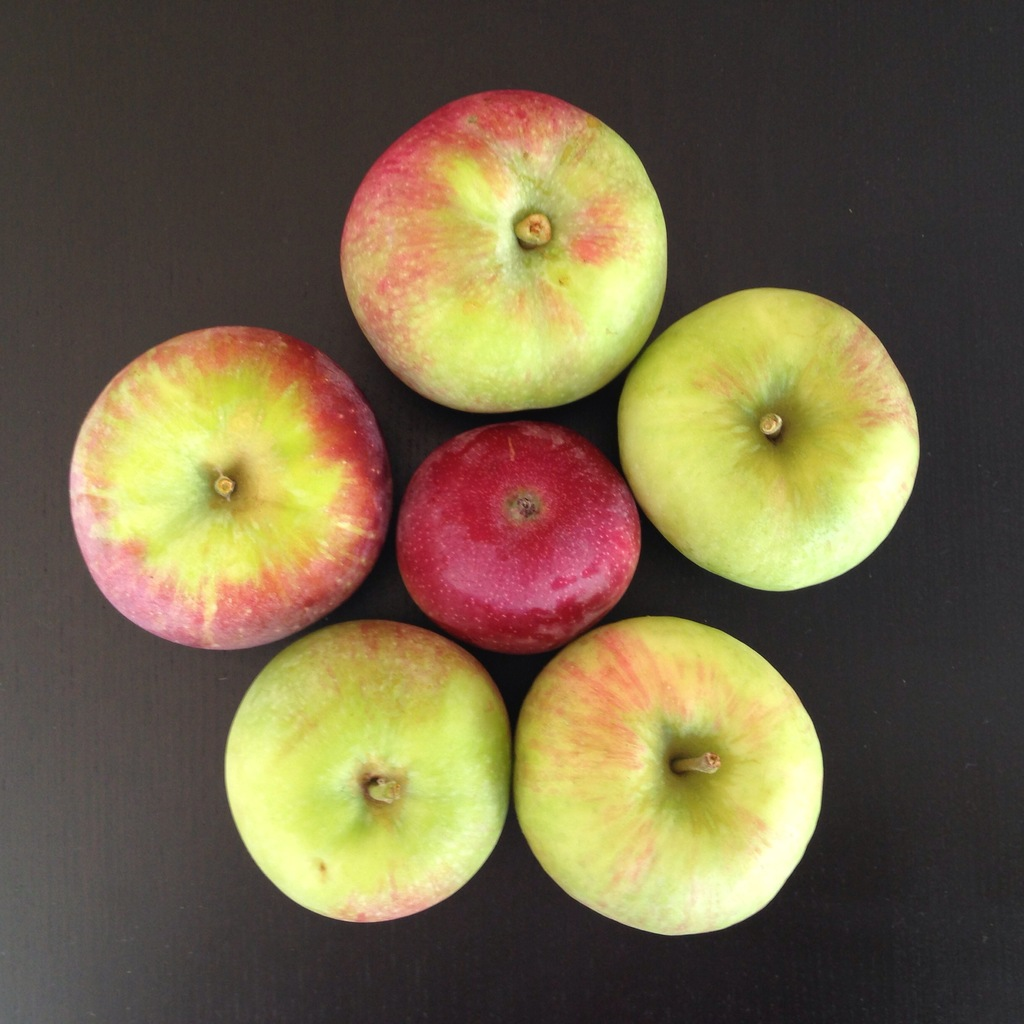Apple: (67, 322, 396, 651), (349, 90, 668, 418), (514, 612, 827, 938), (619, 280, 920, 593), (217, 619, 514, 924), (396, 413, 642, 656)
